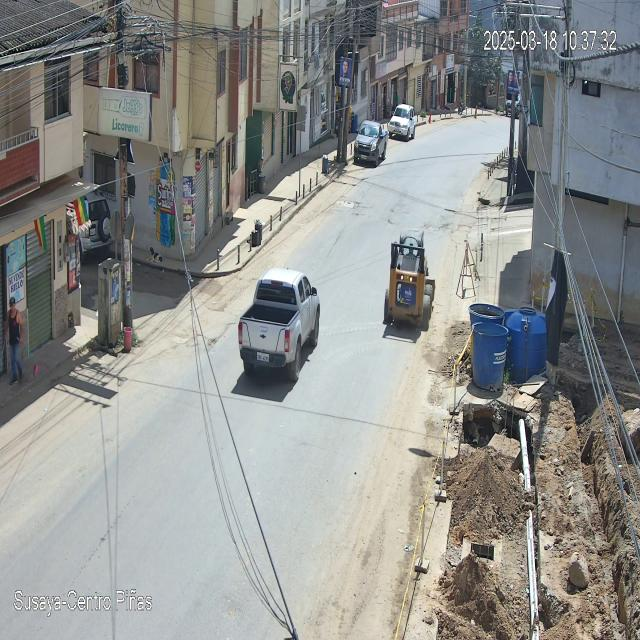CMT: (237, 269, 322, 383)
TRUCK: (381, 230, 437, 343)
